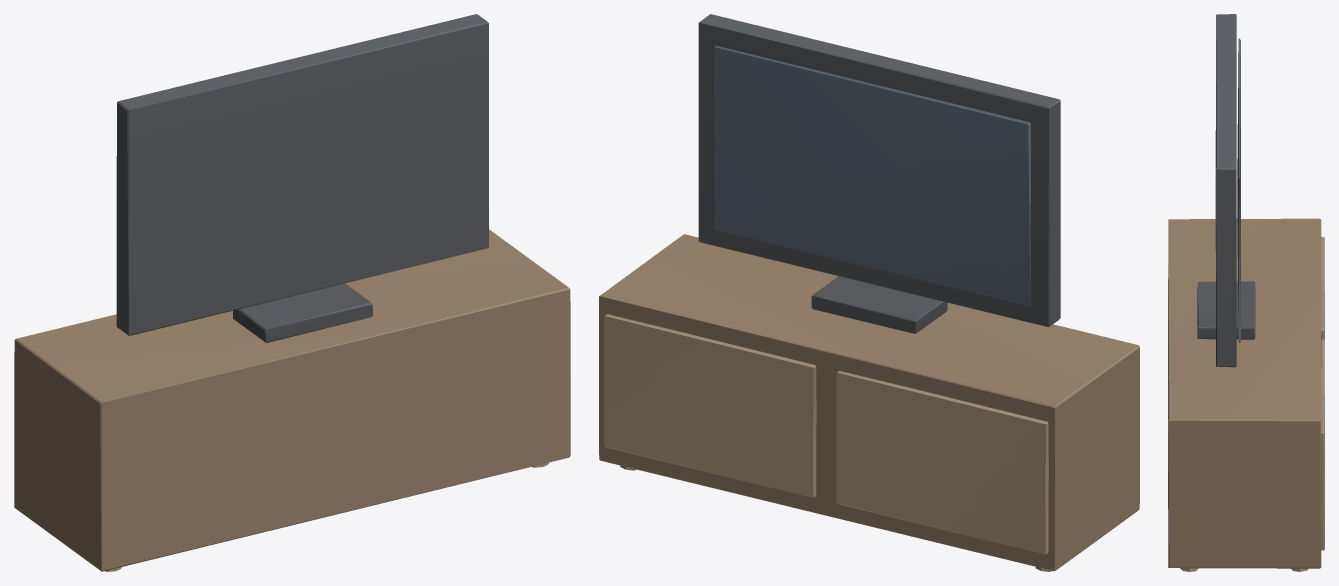
File: furn_tv_stand__walnut_low.glb
3 views of the same model, side by side, from view 1: azimuth 30°, elevation 25°; view 2: azimuth 150°, elevation 25°; view 3: azimuth 270°, elevation 25° (orthographic). The views are drawn at different scales.
Bounding box in the file's own units: 1.3 × 1.16 × 0.4273.
